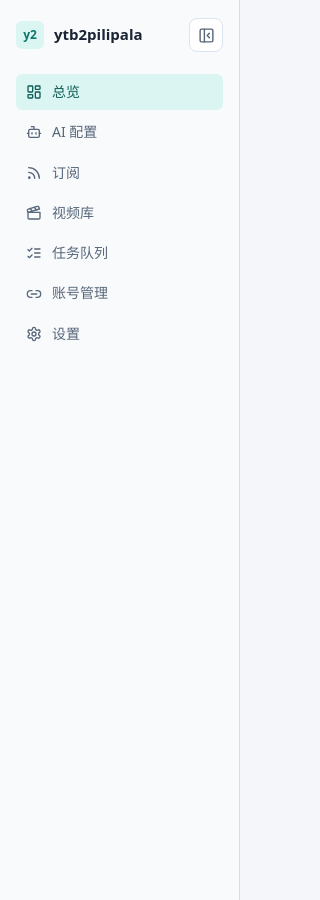
Scenario: App shell routing › manually collapses and expands the sidebar
Click the button named "折叠侧边栏": click(206, 35) [189,18,223,52]
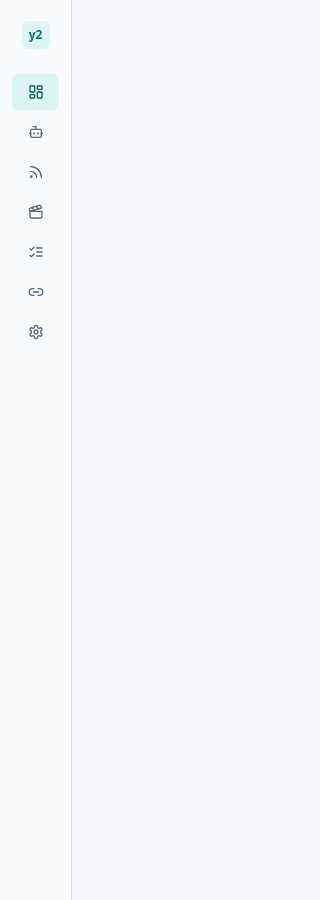
Expected: the element with class "app-shell" has class "sidebar-collapsed", [0,0,72,899]
Click the link named "展开侧边栏": click(36, 35) [22,21,50,49]
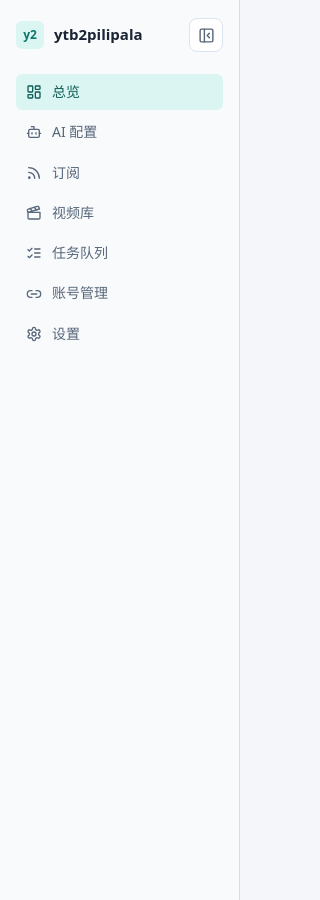
Expected: the button named "折叠侧边栏" is shown, [189,18,223,52]
